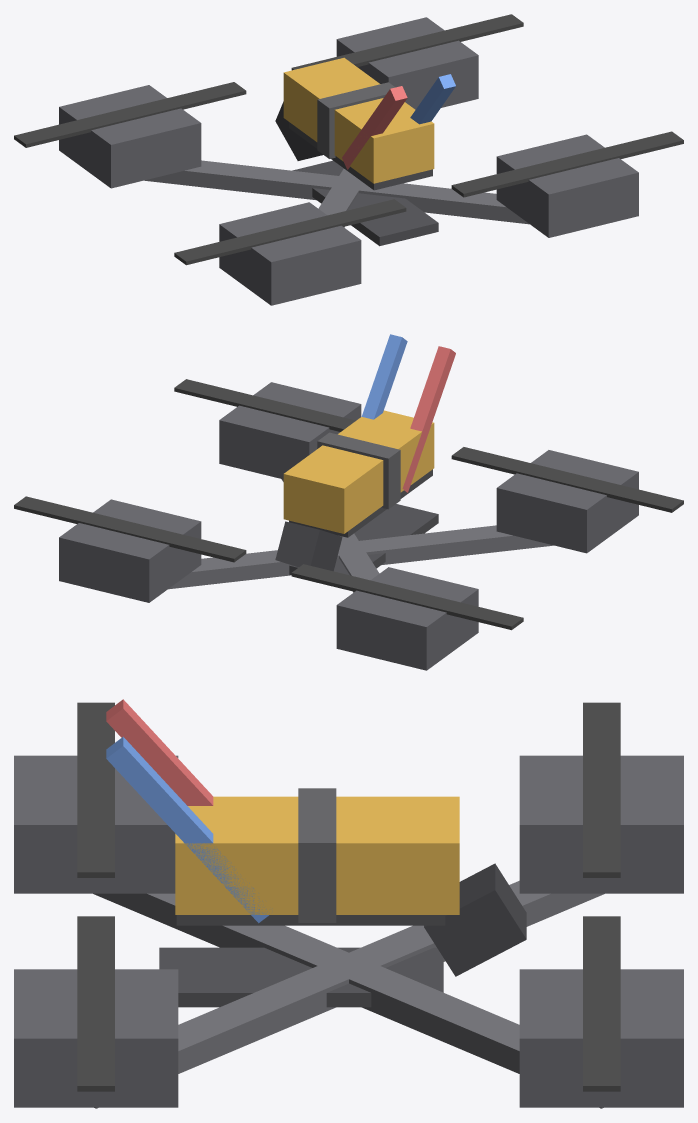
Rendered from quad.gltf.
3 renders of one model, top to bottom at view 1: azimuth 30°, elevation 25°; view 2: azimuth 150°, elevation 25°; view 3: azimuth 270°, elevation 25°, orthographic. The views are drawn at different scales.
Parts seen in each view (by area): view 1: Blade (×4), Battery, Motor4, Motor3, Motor1, Arm2, Motor2, Plate, BatteryStrap, Antenna1, Antenna2, Arm1 (+2 smaller); view 2: Blade (×4), Battery, Motor3, Motor4, Motor2, Motor1, Arm1, CameraMount, Plate, Antenna1, BatteryStrap, Antenna2 (+2 smaller); view 3: Battery, Blade (×4), Motor1, Motor2, Motor4, Motor3, Arm1, Arm2, Plate, CameraMount, BatteryStrap, Antenna2 (+2 smaller).
Part boxes in pixels (x1,y1,x2,y2): Blade (×4): (14, 14, 683, 265); Battery: (283, 57, 434, 183); Motor4: (59, 85, 201, 188); Motor3: (219, 202, 361, 305); Motor1: (496, 134, 638, 237); Arm2: (144, 160, 529, 224); Motor2: (336, 17, 478, 109); Plate: (292, 160, 438, 246); BatteryStrap: (317, 82, 395, 158); Antenna1: (342, 86, 407, 169); Antenna2: (410, 74, 455, 124); Arm1: (318, 169, 363, 227); Blade (×4): (14, 379, 683, 630); Battery: (283, 410, 434, 533); Motor3: (496, 450, 638, 553); Motor4: (336, 567, 478, 670); Motor2: (59, 499, 201, 602); Motor1: (219, 382, 361, 479); Arm1: (168, 525, 553, 589); CameraMount: (275, 521, 342, 571); Plate: (289, 504, 438, 575); Antenna1: (402, 346, 455, 492); BatteryStrap: (317, 432, 400, 509); Antenna2: (361, 334, 407, 419); Battery: (175, 796, 459, 914); Blade (×4): (77, 702, 620, 1091); Motor1: (14, 969, 178, 1107); Motor2: (519, 969, 683, 1107); Motor4: (519, 755, 683, 893); Motor3: (14, 755, 178, 893); Arm1: (93, 893, 603, 1108); Arm2: (94, 880, 604, 1108); Plate: (159, 947, 443, 1007); CameraMount: (424, 863, 526, 976); BatteryStrap: (298, 788, 336, 922); Antenna2: (106, 736, 272, 923).
Bounding box in the file's own units: 0.287 × 0.093 × 0.212.
